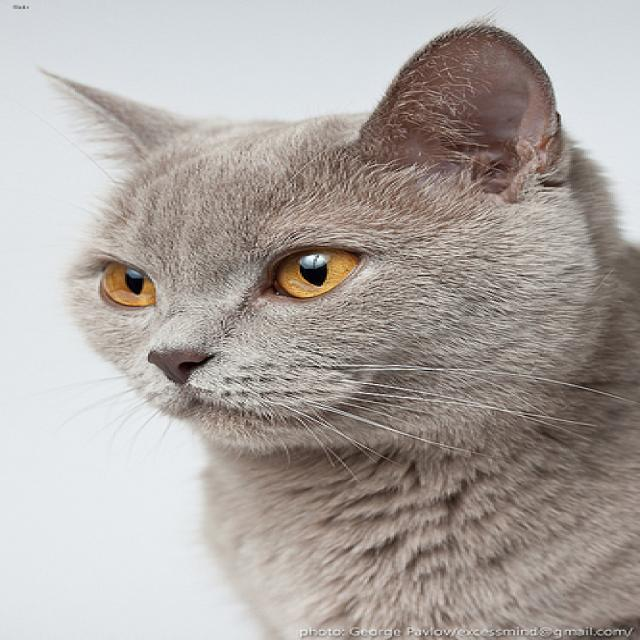British_Shorthair: (25, 20, 605, 446)
